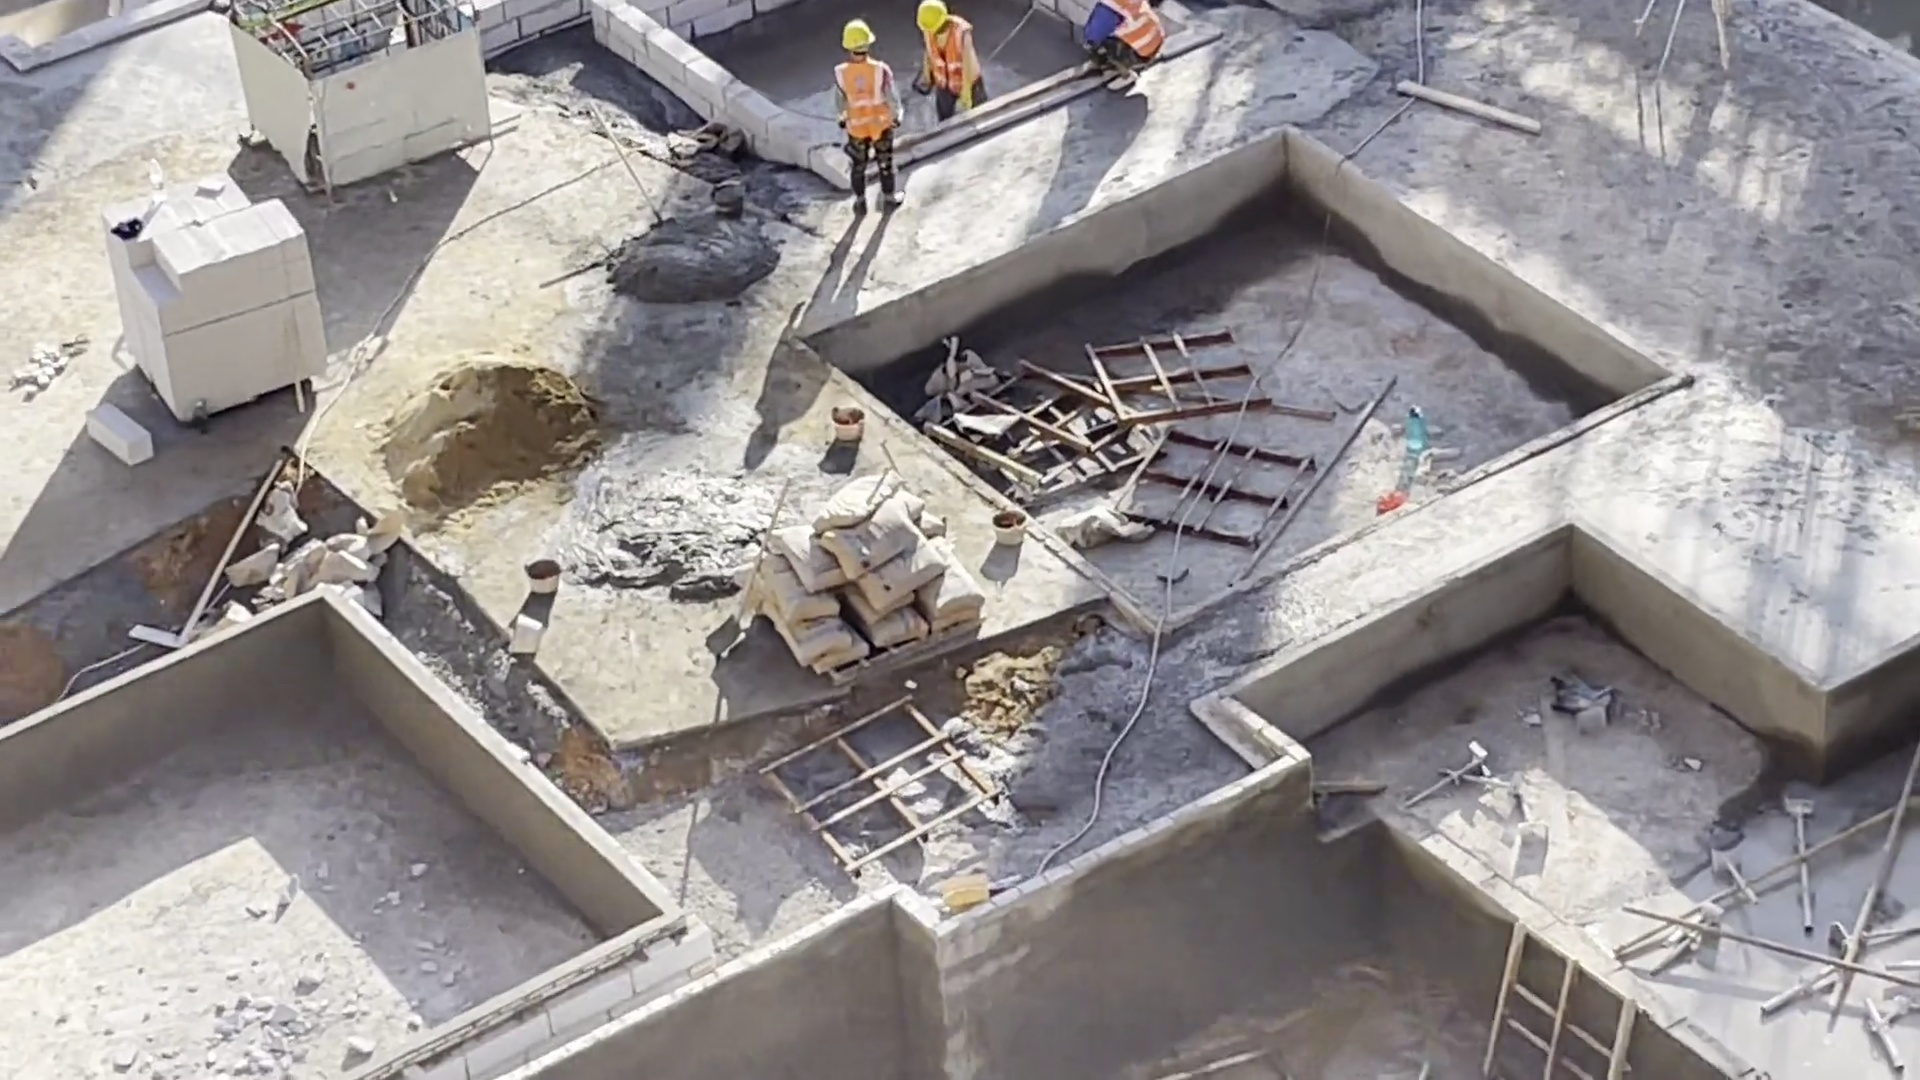brick: (86, 182, 314, 419)
helmet: (841, 16, 876, 49), (917, 1, 956, 26)
person: (836, 13, 912, 222), (918, 4, 1004, 112), (1092, 1, 1156, 89)
vest: (1100, 1, 1165, 61), (920, 24, 975, 93), (838, 68, 894, 135)
